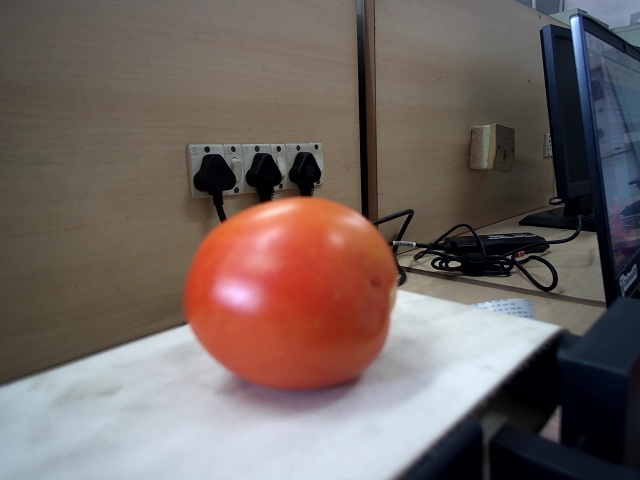Tomato: (185, 195, 399, 397)
